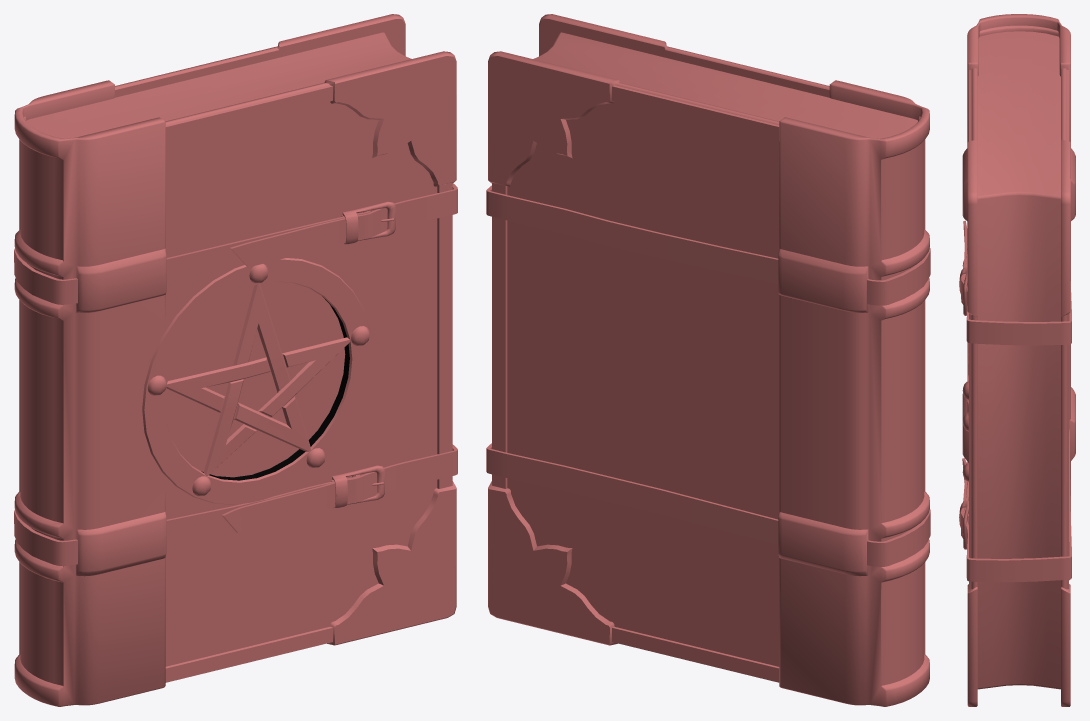
Rendered from grimoire.fbx.
3 renders of one model, left to right at view 1: azimuth 30°, elevation 25°; view 2: azimuth 150°, elevation 25°; view 3: azimuth 270°, elevation 25°, orthographic. The views are drawn at different scales.
Visible parts, largest first — view 1: Obl_mesh_lp002; view 2: Obl_mesh_lp002; view 3: Obl_mesh_lp002.
Boxes of the visible parts, x1=… form: Obl_mesh_lp002: x1=14, y1=14, x2=457, y2=706; Obl_mesh_lp002: x1=486, y1=14, x2=930, y2=706; Obl_mesh_lp002: x1=959, y1=14, x2=1075, y2=706.
Bounding box in the file's own units: 13.9 × 18.46 × 3.78.
